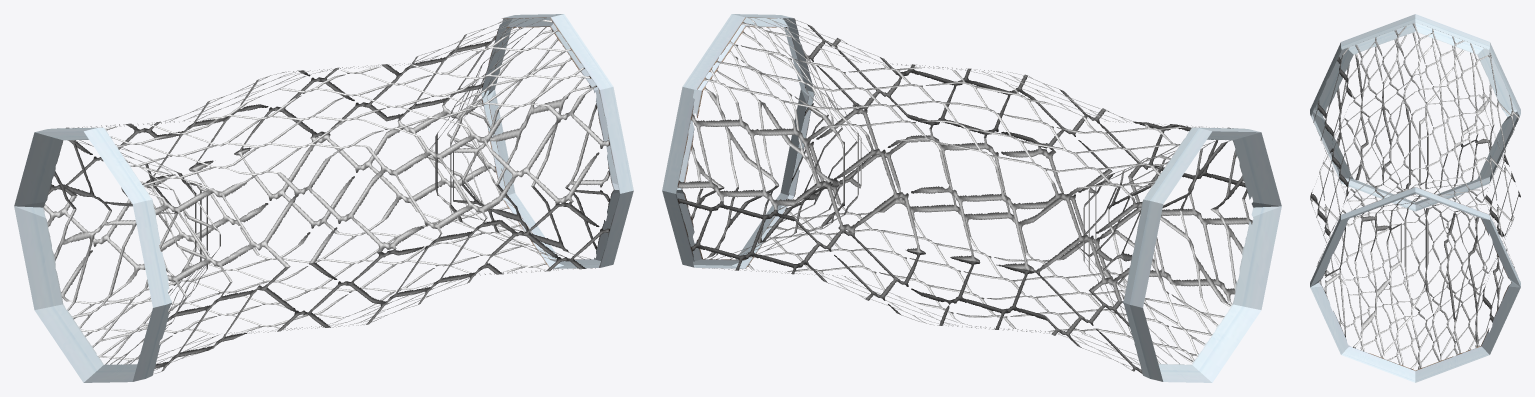
File: fishtrap.FBX
3 views of the same model, side by side, from view 1: azimuth 30°, elevation 25°; view 2: azimuth 150°, elevation 25°; view 3: azimuth 270°, elevation 25° (orthographic). The views are drawn at different scales.
Visible parts, largest first — view 1: FISHTRAP; view 2: FISHTRAP; view 3: FISHTRAP.
Part boxes in pixels (x1=…): FISHTRAP: x1=14, y1=14, x2=633, y2=382; FISHTRAP: x1=662, y1=14, x2=1281, y2=382; FISHTRAP: x1=1310, y1=14, x2=1520, y2=382.
Size of the model in its own units: 14.96 by 7.48 by 7.48.
1 material, 1 textured.
